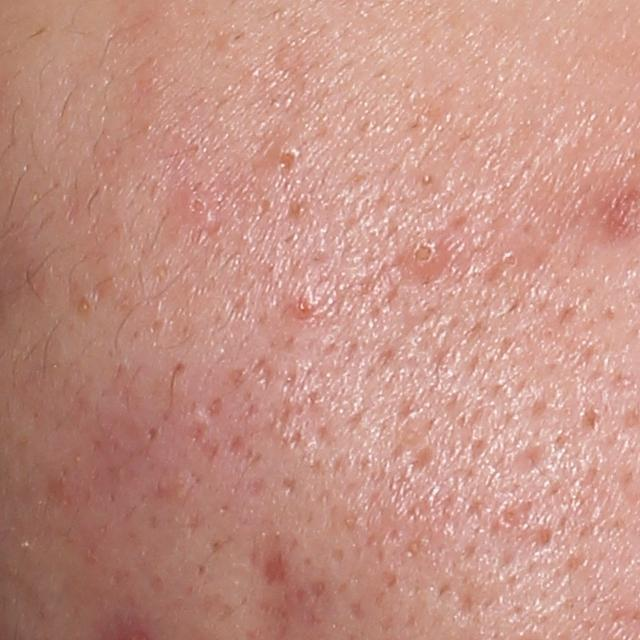comedo: (400, 232, 445, 280), (269, 138, 304, 177), (181, 192, 213, 222)
